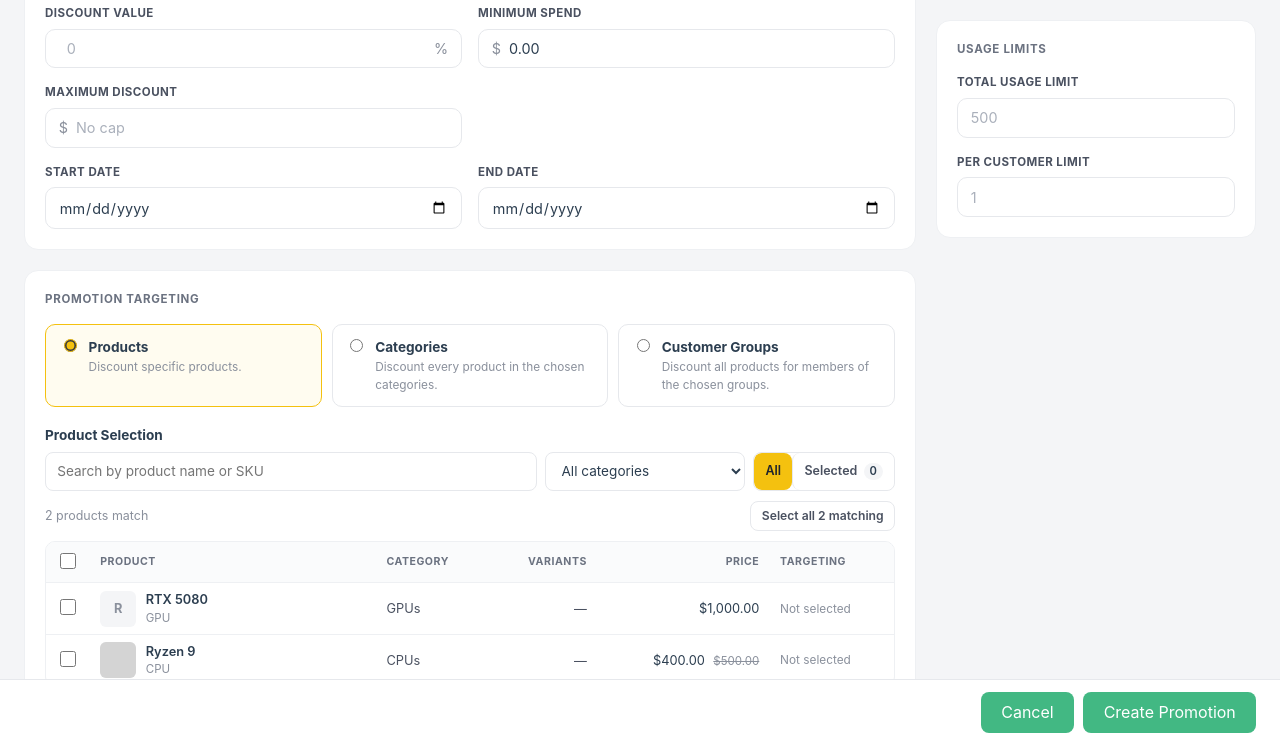
Test case: PromotionFormView — targeting › shows only the chosen target type’s selector
(page scrolled)
Step 1. Click the radio button labelled "Categories Discount every product in the chosen categories." → (357, 346), box [350,339,363,352]
(page scrolled)
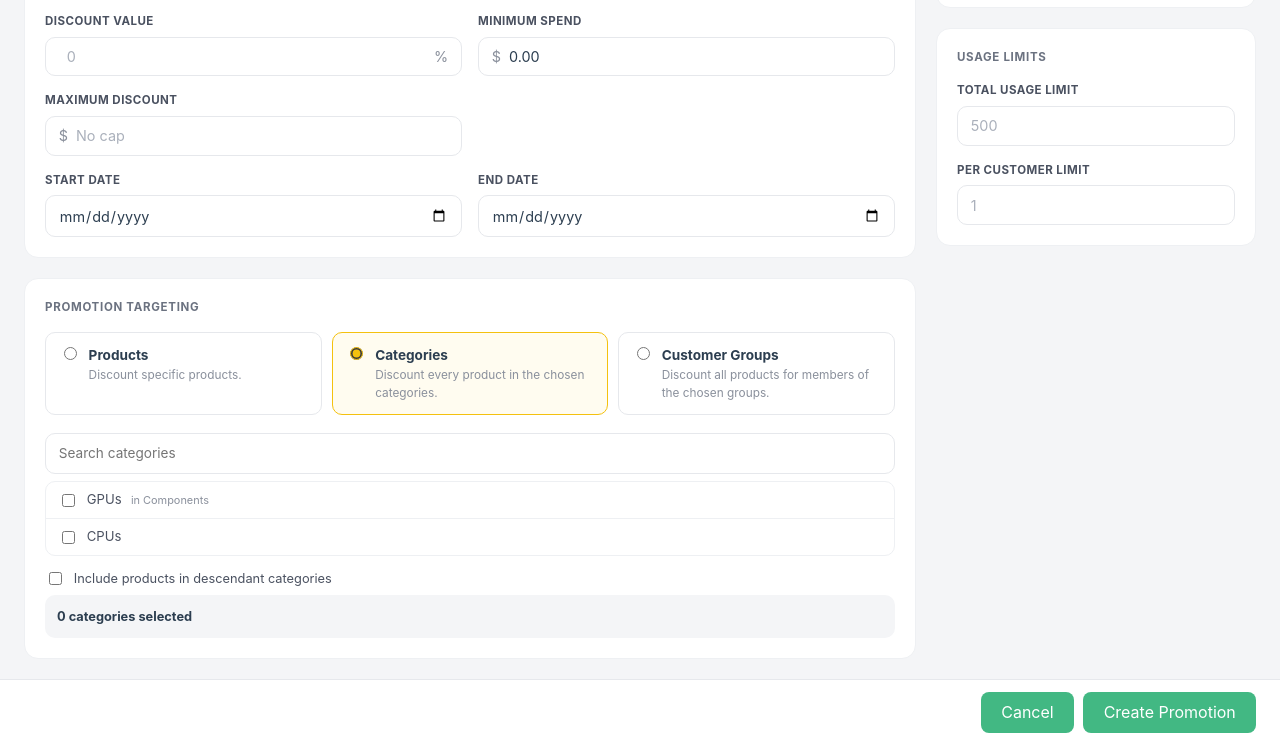
Expected: the search field with id "categorySearch" is shown, [45,433,895,474]
Expected: the text "in Components" is shown, [131,494,209,508]
Step 2. Click the 3rd radio button → (643, 354), box [637,347,650,360]
(page scrolled)
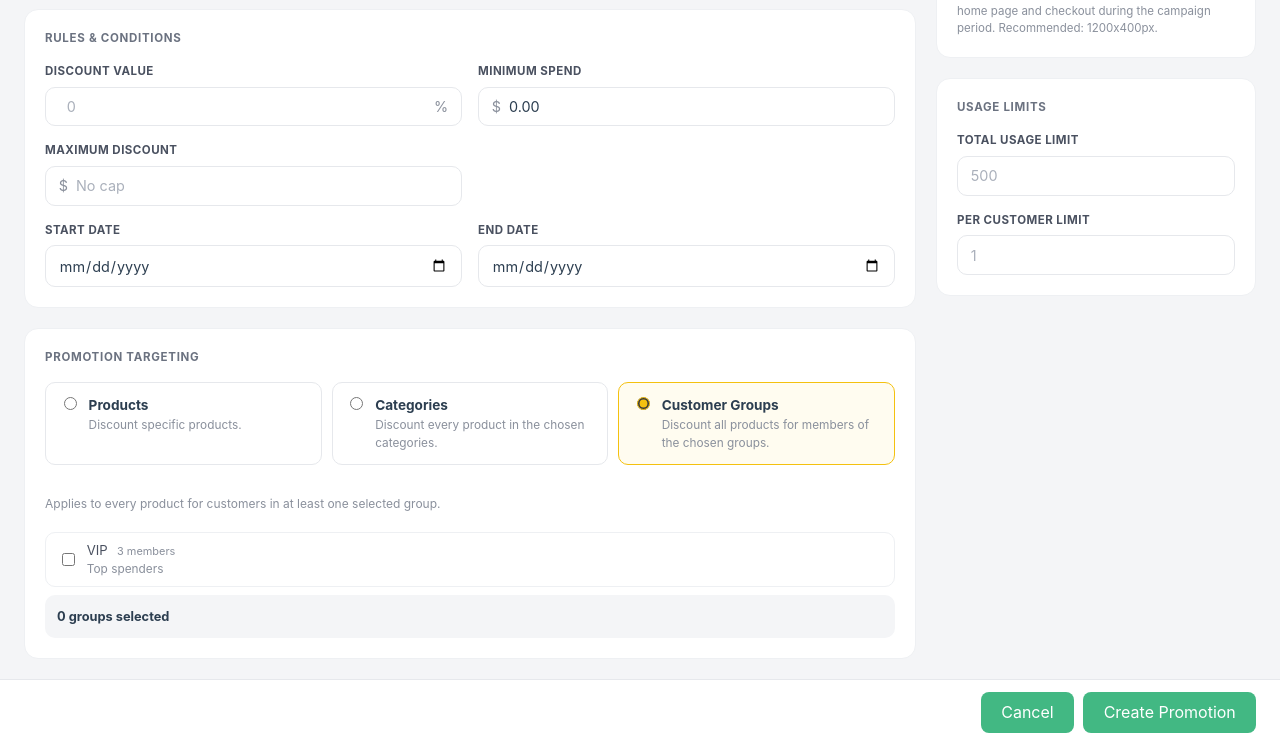
Expected: the text "Top spenders" is shown, [87,561,175,578]
Expected: the text "3 members" is shown, [117,544,175,558]
